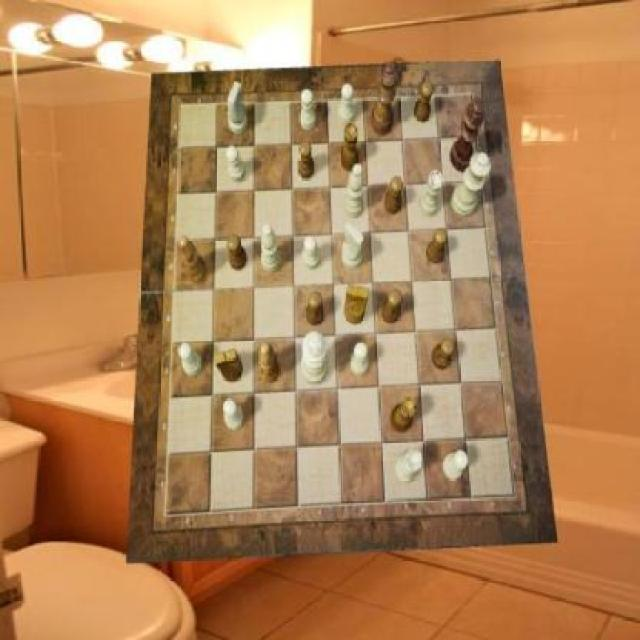bishop: (178, 236, 208, 284), (258, 341, 280, 384)
black-bishop: (451, 97, 484, 173)
black-king: (212, 348, 242, 382), (345, 284, 369, 324)
black-knight: (426, 229, 449, 264), (432, 338, 456, 371), (414, 82, 433, 123), (228, 236, 248, 272), (382, 289, 402, 324), (298, 142, 316, 180), (385, 177, 402, 215), (306, 291, 324, 325)
black-pawn: (371, 62, 398, 136)
black-queen: (390, 397, 418, 433), (340, 125, 359, 172)
black-rook: (343, 165, 364, 219), (262, 223, 282, 272)
white-bishop: (300, 330, 328, 384)
white-king: (341, 223, 364, 271), (228, 81, 248, 134)
white-knight: (178, 343, 202, 377), (443, 449, 468, 480), (338, 83, 356, 125), (226, 146, 246, 182), (300, 89, 317, 131), (223, 398, 243, 431), (349, 342, 368, 376), (303, 235, 321, 270)
white-pawn: (451, 151, 491, 216)
white-queen: (418, 171, 442, 217), (395, 449, 423, 483)
